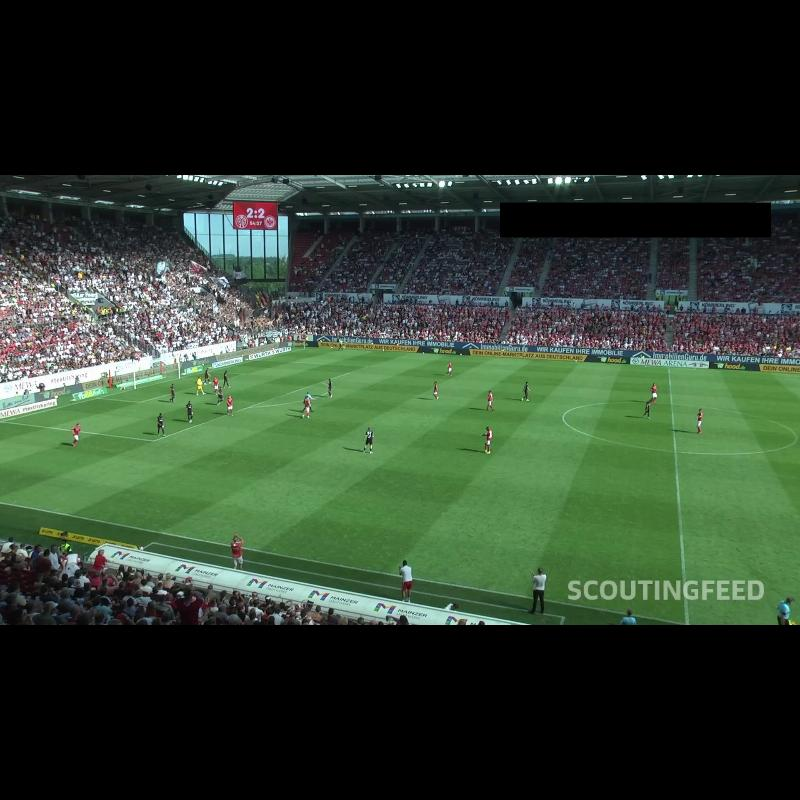cross_recipient_zone: (1, 360, 366, 441)
crossing_player_zone: (0, 421, 259, 524), (257, 349, 468, 371)
pitch: (0, 349, 800, 625)
